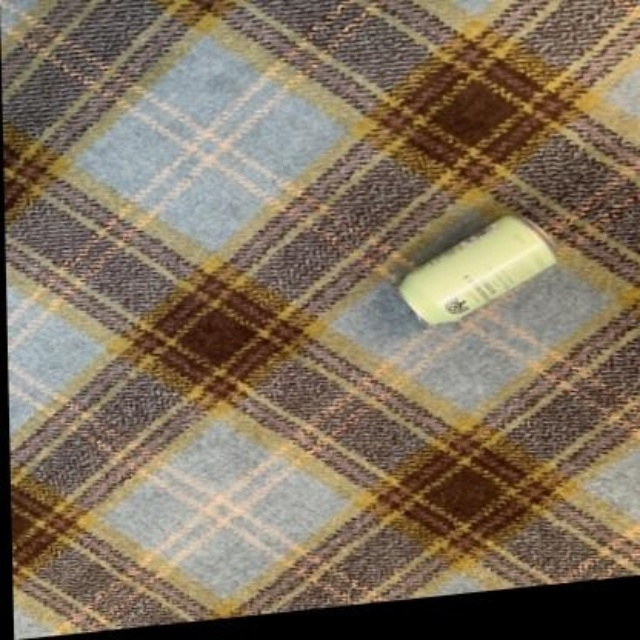trash: (400, 215, 555, 323)
